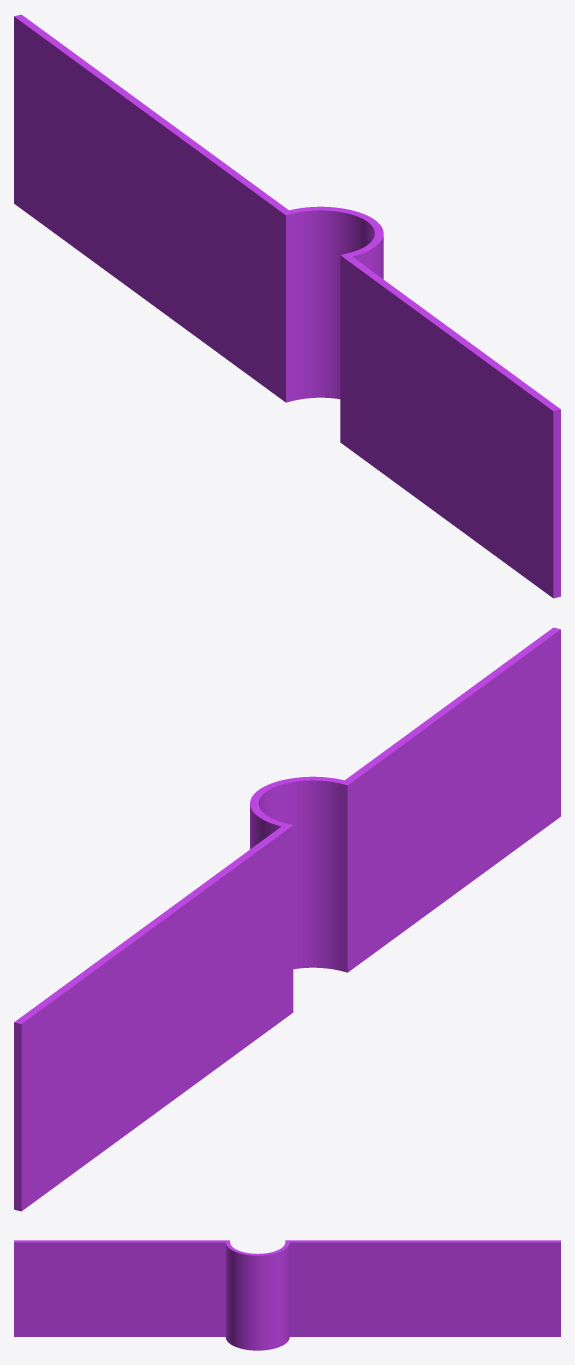
Rendered from s-pared02.gltf.
3 views of the same model, one above another, from view 1: azimuth 30°, elevation 25°; view 2: azimuth 150°, elevation 25°; view 3: azimuth 270°, elevation 25° (orthographic). The views are drawn at different scales.
Visible parts, largest first — view 1: Object_3; view 2: Object_3; view 3: Object_3.
Boxes of the visible parts, x1=… form: Object_3: x1=14, y1=14, x2=560, y2=598; Object_3: x1=14, y1=627, x2=560, y2=1211; Object_3: x1=14, y1=1240, x2=560, y2=1350.
Size of the model in its own units: 1.32 by 3.8 by 19.84.
